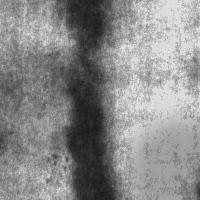patches: (0, 49, 105, 167), (126, 119, 200, 200), (67, 75, 109, 200), (59, 1, 112, 52)
